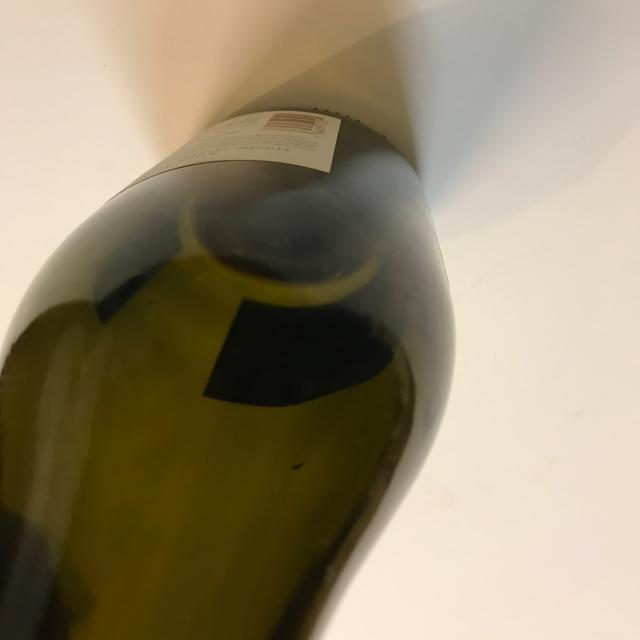glass: (0, 107, 465, 640)
